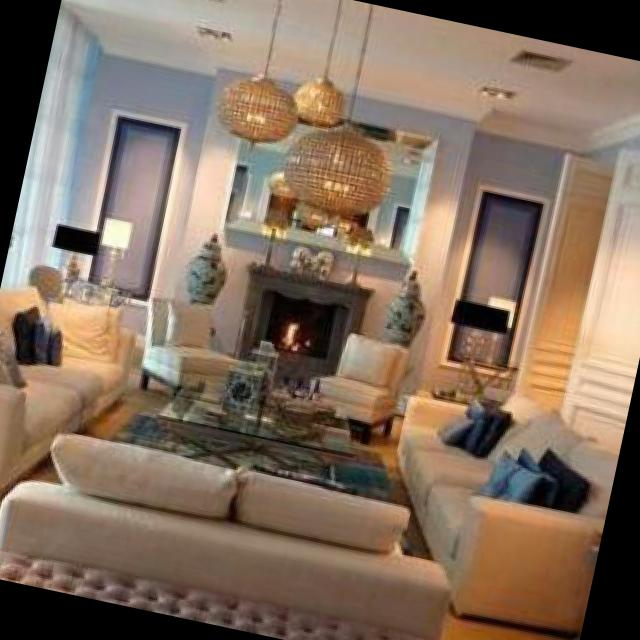fire: (270, 318, 322, 357)
